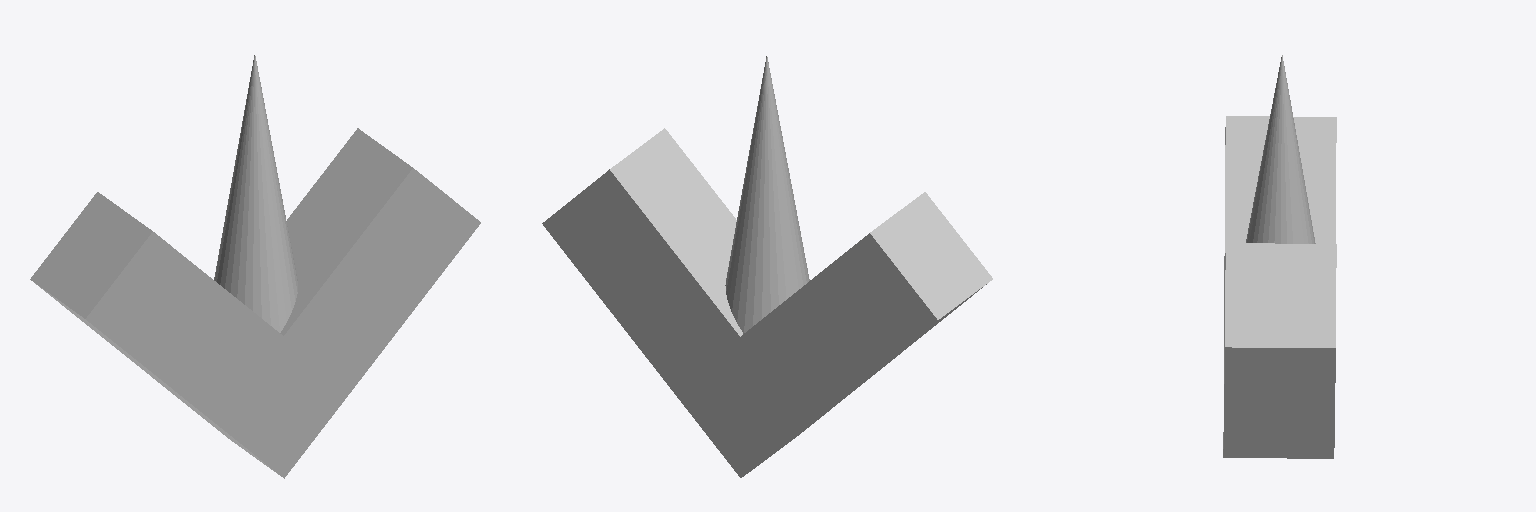
The model's file is needle.obj.
The picture shows the model from 3 angles: view 1: azimuth 30°, elevation 25°; view 2: azimuth 150°, elevation 25°; view 3: azimuth 270°, elevation 25°; orthographic projection.
Parts seen in each view (by area): view 1: Cube, Cube.002, Cone, Cube.001; view 2: Cube, Cube.002, Cone, Cube.001; view 3: Cube, Cube.002, Cone, Cube.001.
Boxes of the visible parts, x1,y1,x2,y2 form: Cube: [280, 128, 480, 397]; Cube.002: [30, 192, 288, 427]; Cone: [214, 55, 297, 332]; Cube.001: [168, 349, 345, 478]; Cube: [542, 128, 742, 390]; Cube.002: [741, 192, 992, 423]; Cone: [725, 56, 809, 333]; Cube.001: [673, 337, 859, 477]; Cube: [1224, 243, 1336, 423]; Cube.002: [1224, 116, 1336, 320]; Cone: [1246, 55, 1315, 243]; Cube.001: [1223, 423, 1334, 458].
Size of the model in its own units: 8.24 by 8.07 by 2.04.